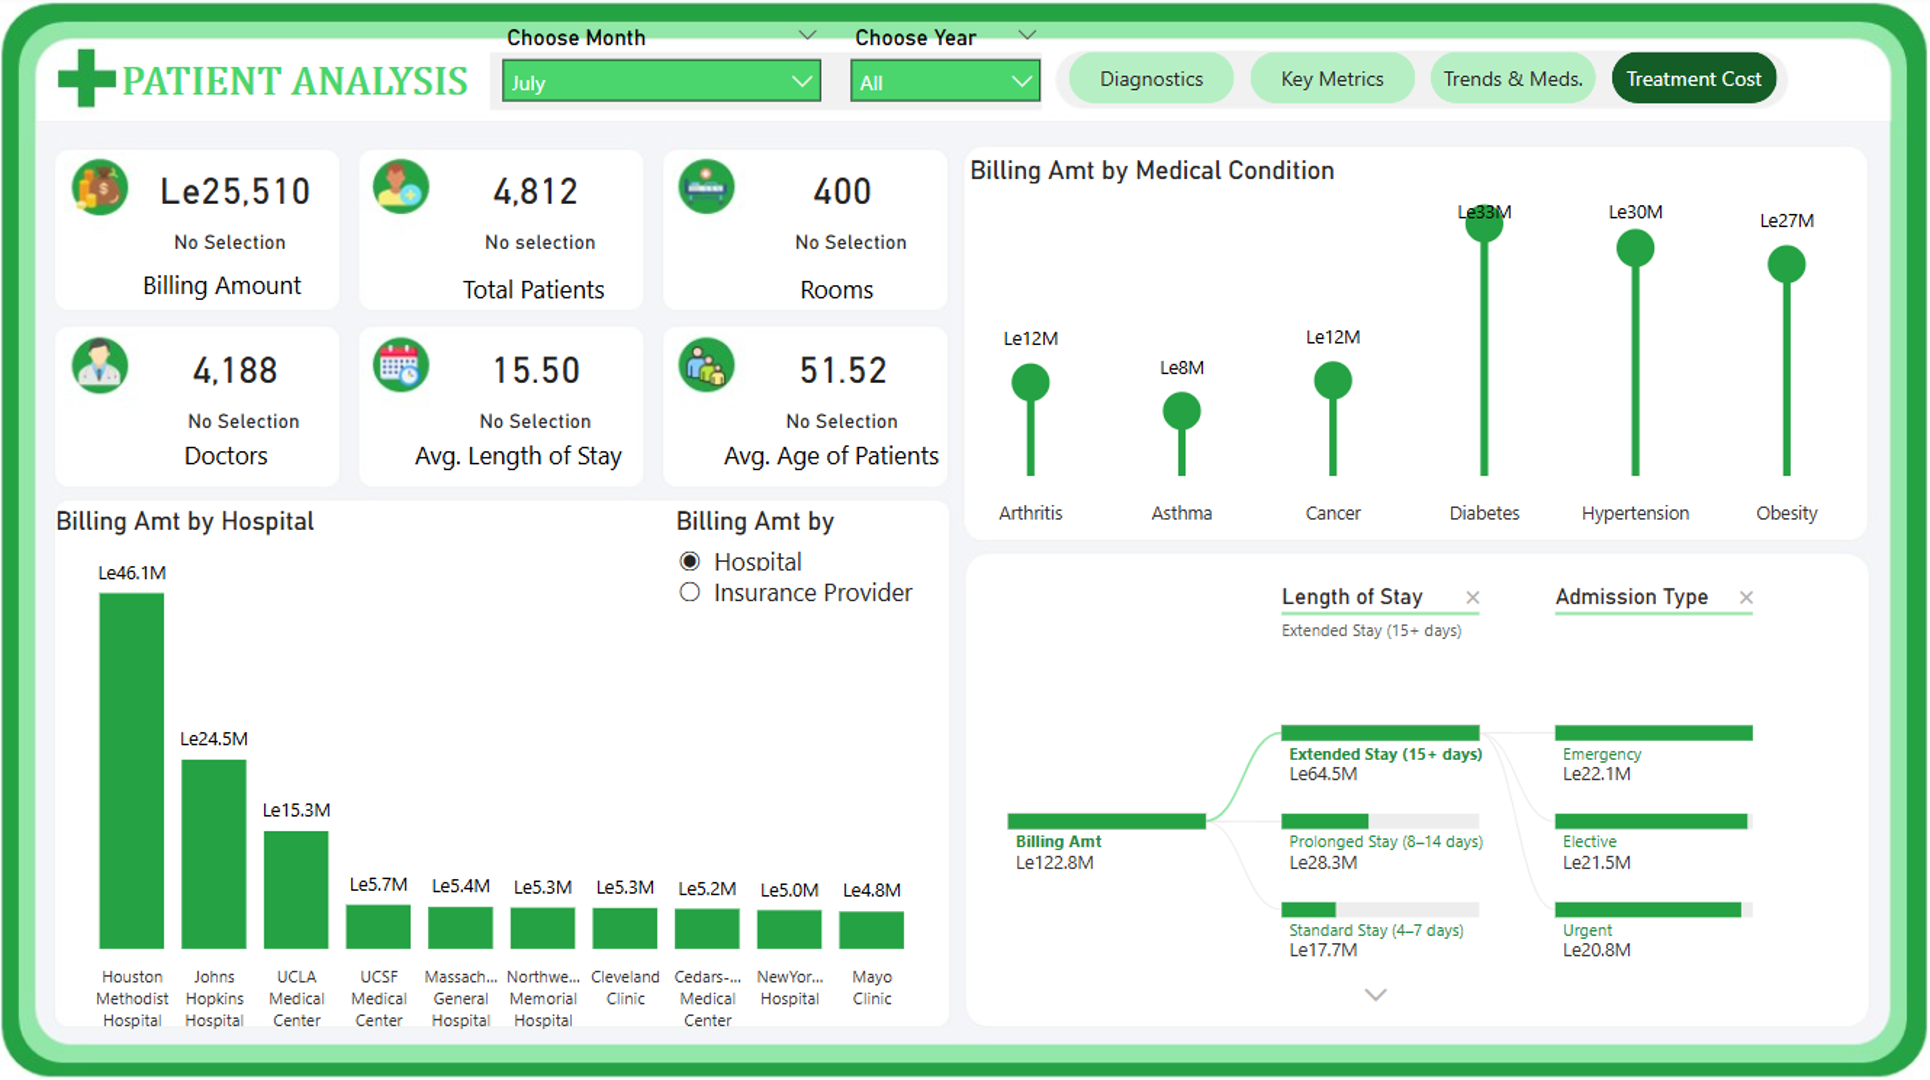

Layout of this report page (visuals, bound fields, positions):
{"tool":"powerbi","page":{"name":"Treatment Cost","canvas":[1280,720],"ordinal":3},"visuals":[{"type":"card","fields":{"Values":["_Measures.Avg. Billing Amt"]},"box":[102.5,105.7,113.9,45.5],"z":0},{"type":"card","fields":{"Values":["_Measures.Bill YoY%"]},"box":[97.6,146.4,118.7,35.8],"z":1000},{"type":"card","fields":{"Values":["_Measures.Rooms"]},"box":[502.6,105.7,113.9,45.5],"z":2000},{"type":"card","fields":{"Values":["_Measures.Patient YoY%"]},"box":[300.9,146.4,120.4,35.8],"z":3000},{"type":"card","fields":{"Values":["_Measures.Room YoY%"]},"box":[502.6,146.4,125.2,35.8],"z":4000},{"type":"card","fields":{"Values":["_Measures.Total Patients"]},"box":[300.9,105.7,113.9,45.5],"z":5000},{"type":"card","fields":{"Values":["_Measures.Doctors"]},"box":[102.5,222.8,113.9,45.5],"z":6000},{"type":"card","fields":{"Values":["_Measures.Doctors YoY%"]},"box":[102.5,263.5,125.2,35.8],"z":7000},{"type":"card","fields":{"Values":["_Measures.Avg. LOS"]},"box":[300.9,222.8,113.9,45.5],"z":8000},{"type":"card","fields":{"Values":["_Measures.LOS YoY%"]},"box":[300.9,263.5,113.9,35.8],"z":9000},{"type":"card","fields":{"Values":["_Measures.Avg. Patient Age"]},"box":[502.6,222.8,113.9,45.5],"z":10000},{"type":"card","fields":{"Values":["_Measures.Age YoY%"]},"box":[502.3,263.3,113.4,36.5],"z":11000},{"type":"decompositionTreeVisual","fields":{"Analyze":["_Measures.Billing Amt"],"ExplainBy":["Health Data.LOS Bucket","Health Data.Admission Type"]},"box":[639.2,370.9,598.6,317.2],"z":12000},{"type":"lineChart","fields":{"Y":["_Measures.Billing Amt"],"Category":["Health Data.Medical Condition","Health Data.Medication"]},"box":[639.2,105.7,587.2,253.7],"z":13000},{"type":"clusteredColumnChart","fields":{"Category":["Health Data.Hospital"],"Y":["_Measures.Billing Amt"]},"box":[37.4,336.7,590.4,351.3],"z":14000},{"type":"listSlicer","fields":{"Values":["Parameter.Parameter"]},"box":[445.7,336.7,182.2,69.9],"z":15000},{"type":"textbox","box":[94.3,174,146.4,37.4],"z":16000},{"type":"textbox","box":[305.8,177.3,115.5,37.4],"z":17000},{"type":"textbox","box":[122,286.3,81.3,37.4],"z":18000},{"type":"textbox","box":[273.3,286.3,167.5,37.4],"z":19000},{"type":"textbox","box":[527,177.3,81.3,37.4],"z":20000},{"type":"textbox","box":[476.6,286.3,167.5,37.4],"z":21000},{"type":"textbox","box":[79.7,39,250.5,45.5],"z":22000},{"type":"slicer","fields":{"Values":["Calendar.Month Name"]},"box":[326.9,16.3,229.3,56.9],"z":23000},{"type":"slicer","fields":{"Values":["Calendar.Year"]},"box":[556.3,16.3,144.8,56.9],"z":24000},{"type":"pageNavigator","box":[709.2,39,466.8,34.2],"z":25000}]}

Visuals, with their boxes in screenshot pixels (x1, y1, x2, y2), scaled from the page's 1280x720 canvas onto the 1930x1080 screenshot:
card - _Measures.Avg. Billing Amt: 155 159 326 227
card - _Measures.Bill YoY%: 147 220 326 273
card - _Measures.Rooms: 758 159 930 227
card - _Measures.Patient YoY%: 454 220 635 273
card - _Measures.Room YoY%: 758 220 947 273
card - _Measures.Total Patients: 454 159 625 227
card - _Measures.Doctors: 155 334 326 402
card - _Measures.Doctors YoY%: 155 395 343 449
card - _Measures.Avg. LOS: 454 334 625 402
card - _Measures.LOS YoY%: 454 395 625 449
card - _Measures.Avg. Patient Age: 758 334 930 402
card - _Measures.Age YoY%: 757 395 928 450
decompositionTreeVisual - _Measures.Billing Amt x Health Data.LOS Bucket: 964 556 1866 1032
lineChart - _Measures.Billing Amt x Health Data.Medical Condition: 964 159 1849 539
clusteredColumnChart - Health Data.Hospital x _Measures.Billing Amt: 56 505 947 1032
listSlicer - Parameter.Parameter: 672 505 947 610
textbox: 142 261 363 317
textbox: 461 266 635 322
textbox: 184 429 307 486
textbox: 412 429 665 486
textbox: 795 266 917 322
textbox: 719 429 971 486
textbox: 120 58 498 127
slicer - Calendar.Month Name: 493 24 839 110
slicer - Calendar.Year: 839 24 1057 110
pageNavigator: 1069 58 1773 110
